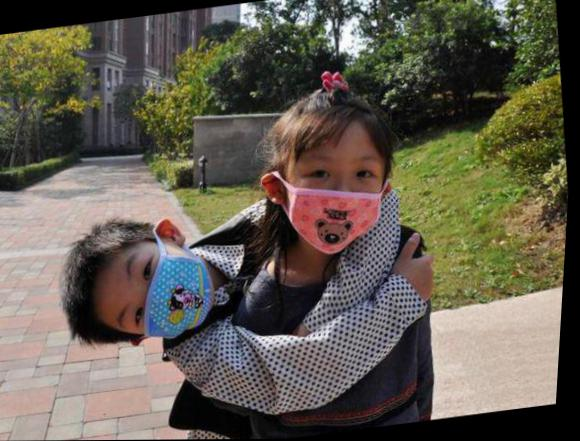OK: (110, 240, 221, 347)
WRONG: (284, 147, 391, 257)
